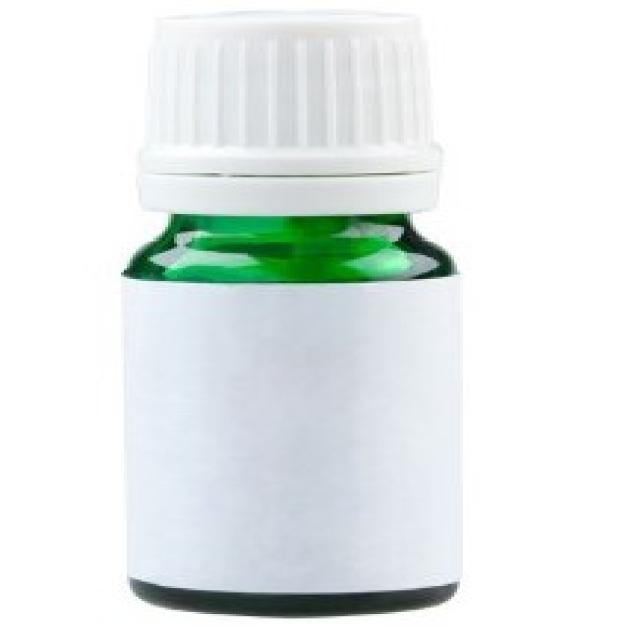electronic: (122, 9, 458, 624), (441, 441, 469, 523)
